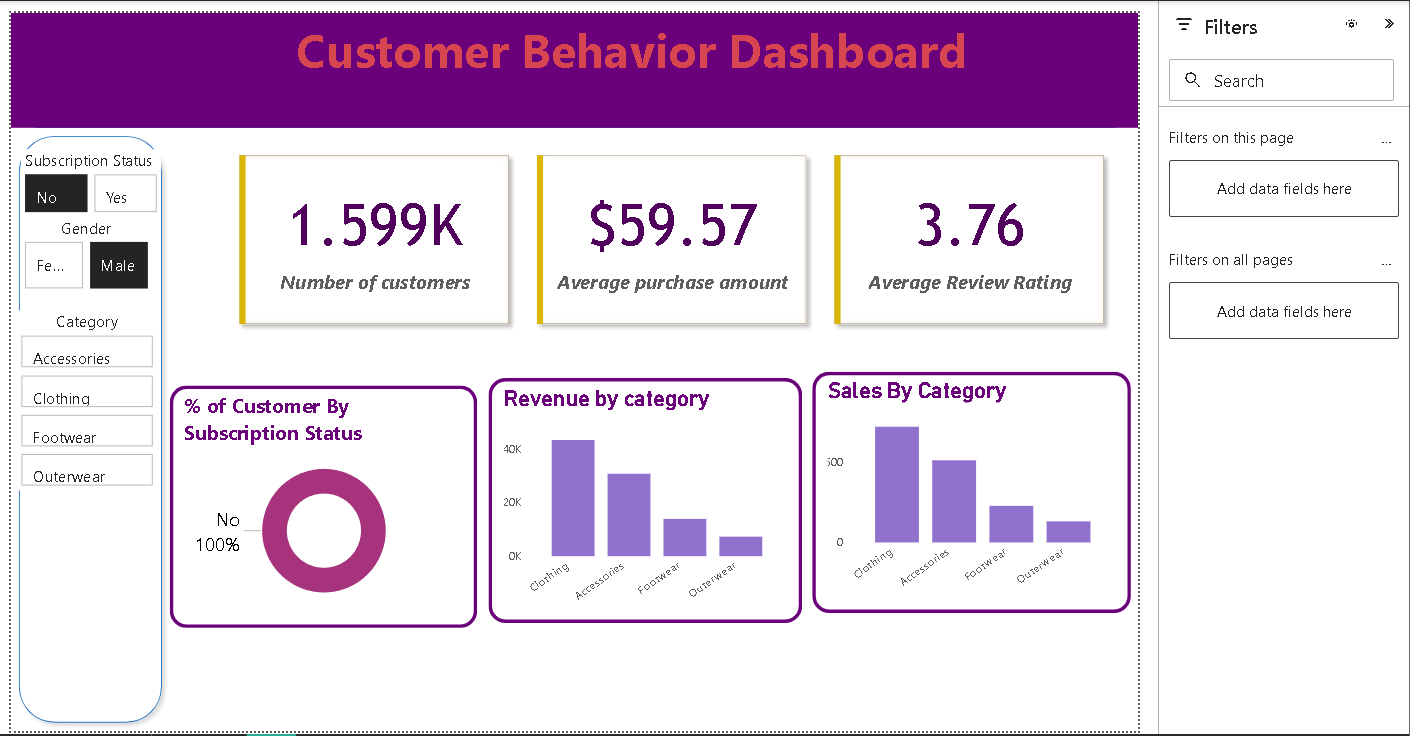

Layout of this report page (visuals, bound fields, positions):
{"tool":"powerbi","page":{"name":"Page 1","canvas":[1288,820],"ordinal":0},"visuals":[{"type":"cardVisual","fields":{"Data":["public customer_table.Number of customers","public customer_table.Average purchase amount","public customer_table.Average Review Rating"]},"box":[244.3,145.7,1022.9,227.1],"z":0},{"type":"shape","box":[0,0,1288.6,131.4],"z":1000},{"type":"textbox","box":[0,419,208,278],"z":2000},{"type":"shape","box":[181.4,425.7,351.4,277.1],"z":3000},{"type":"donutChart","title":"% of Customer By Subscription Status","fields":{"Category":["public customer_table.subscription_status"],"Y":["CountNonNull(public customer_table.customer_id)"]},"box":[192.9,432.9,330,257.1],"z":4000},{"type":"shape","box":[545.7,417.1,358.6,280],"z":5000},{"type":"shape","box":[915.7,410,364.3,275.7],"z":6000},{"type":"clusteredColumnChart","title":"Revenue by category","fields":{"Y":["Sum(public customer_table.purchase_amount)"],"Category":["public customer_table.category"]},"box":[558.6,425.7,332.9,264.3],"z":7000},{"type":"clusteredColumnChart","title":"Sales By Category","fields":{"Y":["CountNonNull(public customer_table.customer_id)"],"Category":["public customer_table.category"]},"box":[928.6,417.1,338.6,257.1],"z":8000},{"type":"shape","box":[0,131.4,181.4,688.6],"z":9000},{"type":"textbox","box":[0,0,1288.6,131.4],"z":10000},{"type":"advancedSlicerVisual","title":"Subscription Status","fields":{"Values":["public customer_table.subscription_status"]},"box":[11.4,155.7,160,77.1],"z":11000},{"type":"advancedSlicerVisual","title":"Gender","fields":{"Values":["public customer_table.gender"]},"box":[11.4,232.9,150,87.1],"z":12000},{"type":"advancedSlicerVisual","title":"Category","fields":{"Values":["public customer_table.category"]},"box":[7.1,340,160,205.7],"z":13000}]}

Visuals, with their boxes in screenshot pixels (x1, y1, x2, y2):
cardVisual - public customer_table.Number of customers x public customer_table.Average purchase amount: {"x1": 219, "y1": 136, "x2": 1123, "y2": 337}
shape: {"x1": 4, "y1": 7, "x2": 1142, "y2": 123}
textbox: {"x1": 4, "y1": 377, "x2": 187, "y2": 623}
shape: {"x1": 164, "y1": 383, "x2": 474, "y2": 628}
"% of Customer By Subscription Status" donutChart: {"x1": 174, "y1": 390, "x2": 465, "y2": 617}
shape: {"x1": 486, "y1": 376, "x2": 802, "y2": 623}
shape: {"x1": 812, "y1": 369, "x2": 1134, "y2": 613}
"Revenue by category" clusteredColumnChart: {"x1": 497, "y1": 383, "x2": 791, "y2": 617}
"Sales By Category" clusteredColumnChart: {"x1": 824, "y1": 376, "x2": 1123, "y2": 603}
shape: {"x1": 4, "y1": 123, "x2": 164, "y2": 732}
textbox: {"x1": 4, "y1": 7, "x2": 1142, "y2": 123}
"Subscription Status" advancedSlicerVisual: {"x1": 14, "y1": 145, "x2": 155, "y2": 213}
"Gender" advancedSlicerVisual: {"x1": 14, "y1": 213, "x2": 146, "y2": 290}
"Category" advancedSlicerVisual: {"x1": 10, "y1": 308, "x2": 151, "y2": 489}
